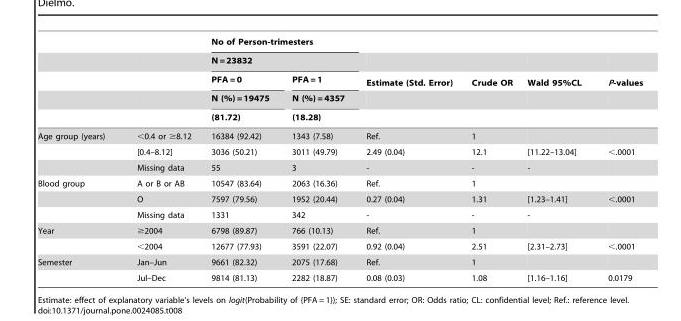table: (37, 37, 642, 282)
table column: (354, 37, 461, 282), (37, 37, 120, 282), (120, 37, 200, 282), (200, 37, 279, 282), (279, 37, 354, 282), (519, 37, 593, 282), (461, 37, 519, 282), (593, 37, 642, 282)
table column header: (37, 37, 642, 126)
table row: (37, 69, 642, 90), (37, 50, 642, 69), (37, 107, 642, 126), (37, 90, 642, 107), (37, 126, 642, 143), (37, 143, 642, 159), (37, 159, 642, 175), (37, 190, 642, 206), (37, 206, 642, 222), (37, 222, 642, 238), (37, 238, 642, 254), (37, 175, 642, 190), (37, 254, 642, 269), (37, 37, 642, 50), (37, 269, 642, 282)
table spanning cell: (354, 37, 461, 126), (519, 37, 593, 126), (461, 37, 519, 126), (200, 37, 354, 69), (200, 69, 279, 126), (593, 37, 642, 126), (279, 69, 354, 126), (37, 126, 120, 175), (37, 175, 120, 222), (37, 222, 120, 254), (37, 254, 120, 282)
